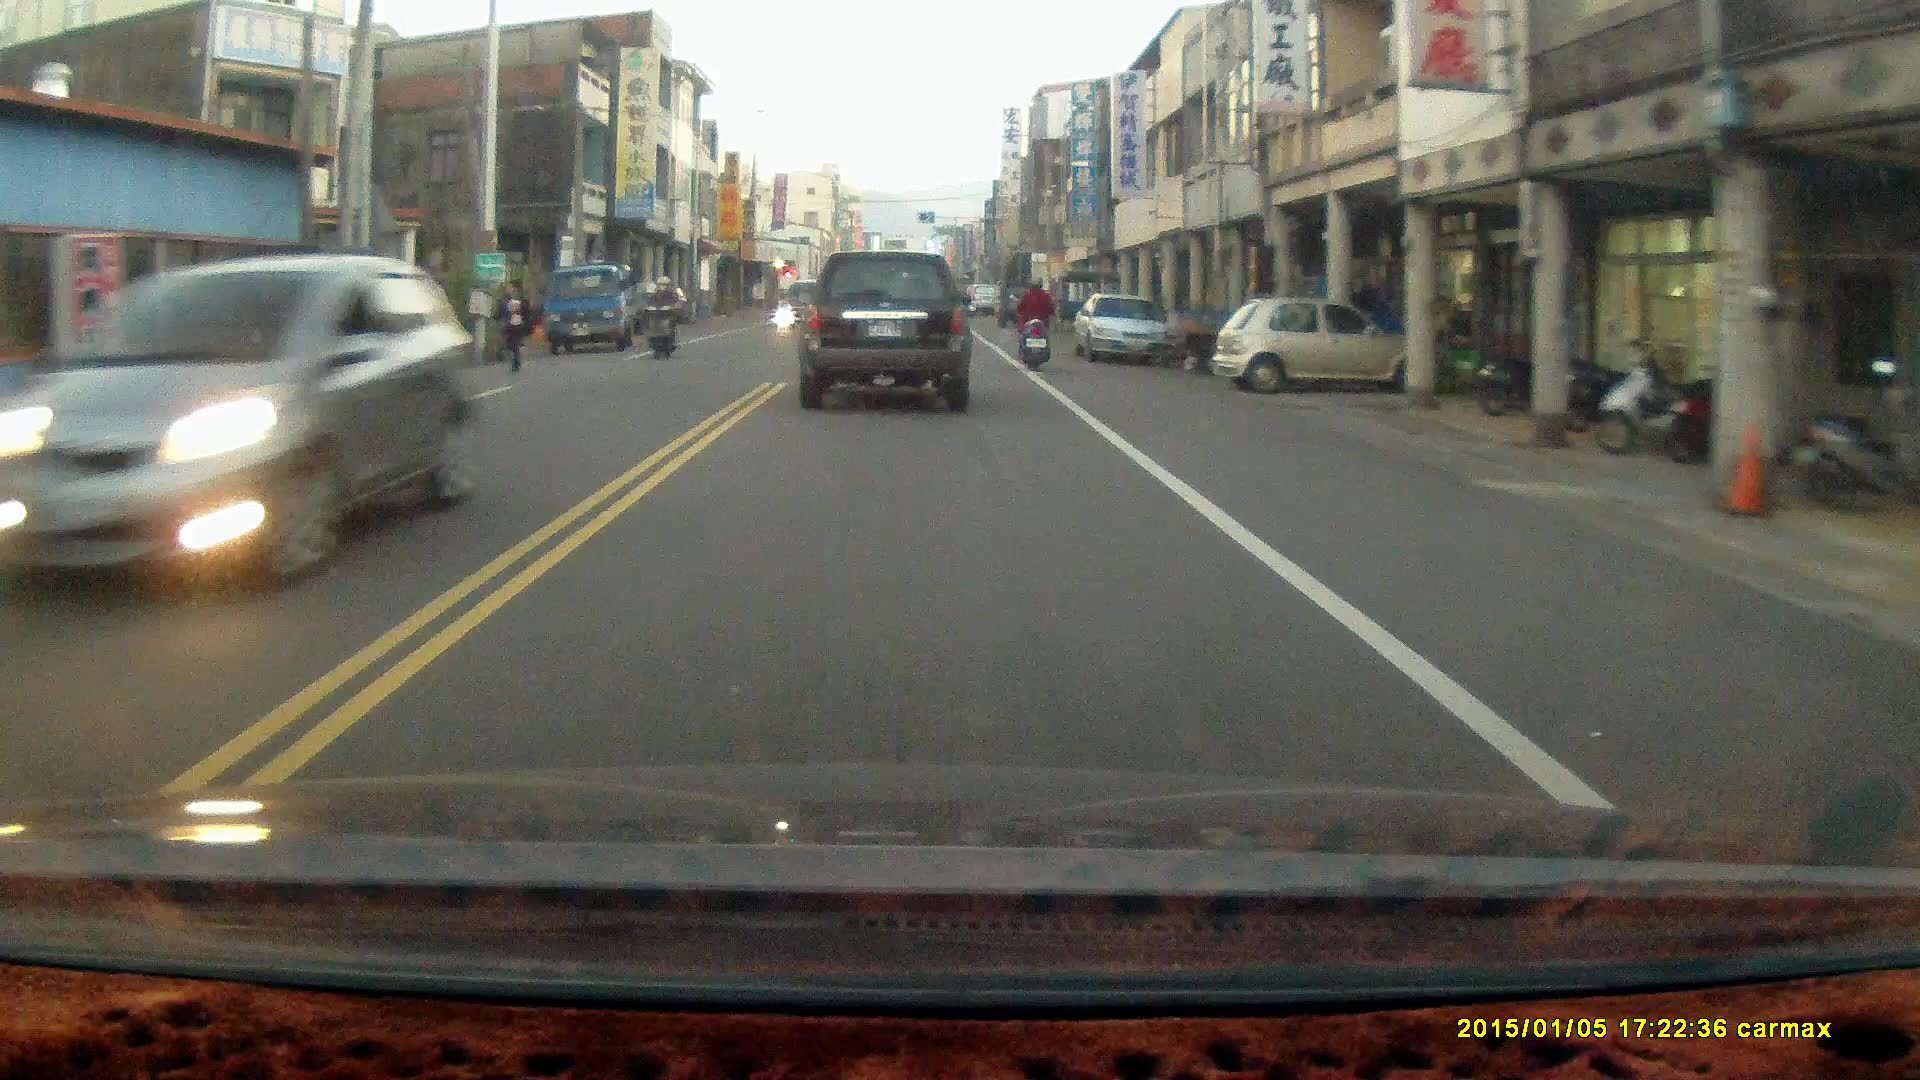pedestrian: (498, 280, 536, 374)
rider: (1014, 276, 1053, 374), (637, 276, 678, 360)
vehicle: (1, 256, 478, 601), (793, 251, 974, 420), (1217, 300, 1437, 398), (545, 263, 669, 356), (1074, 298, 1173, 371)
